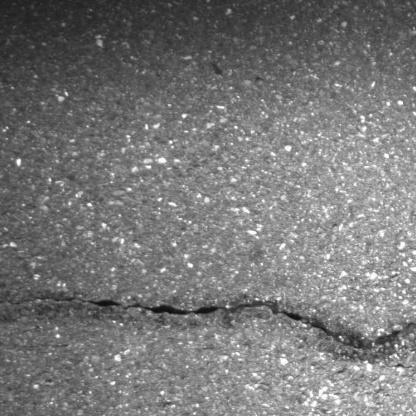Cracks: (0, 293, 416, 356)
